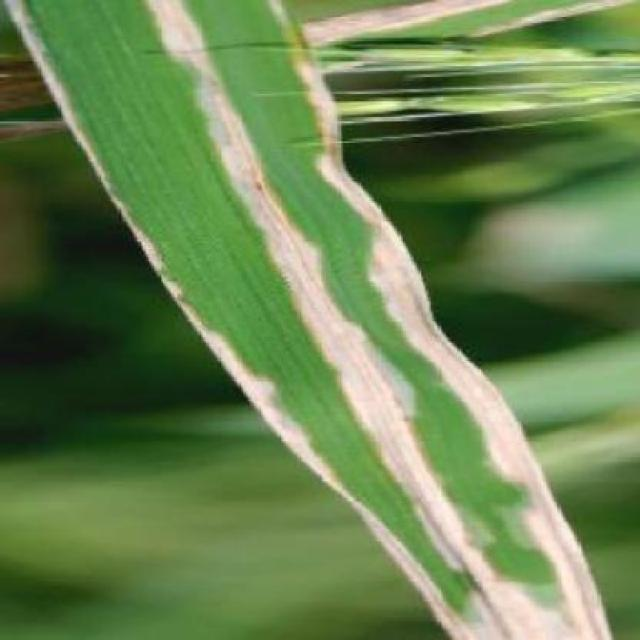Brown_Spot: (125, 4, 388, 488)
